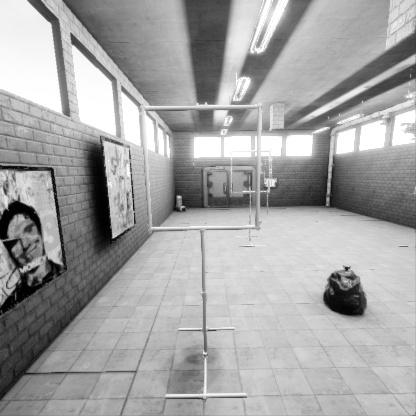gate: (144, 192, 266, 313), (231, 225, 273, 267), (264, 231, 272, 258)
